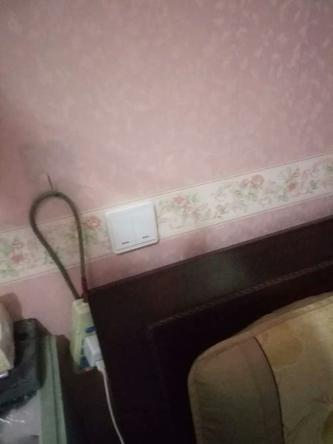switch: (136, 215, 168, 244), (107, 217, 134, 247)
